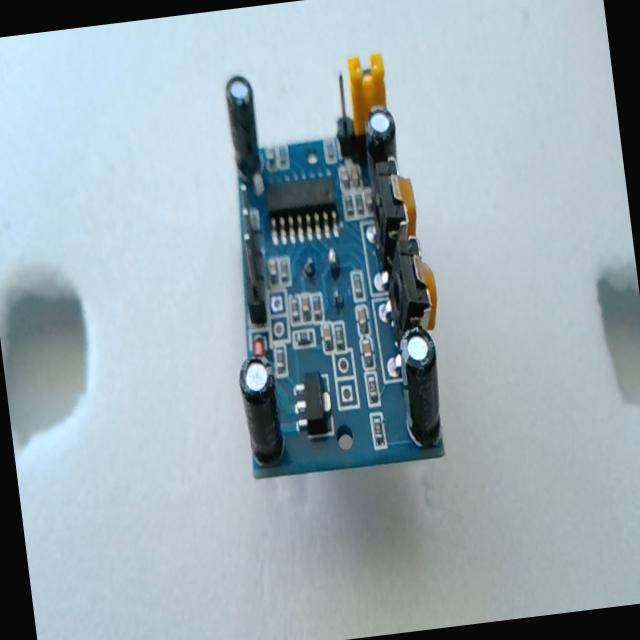Electrolytic capacitor: (388, 327, 448, 468), (232, 355, 286, 477)
IC: (256, 168, 342, 250)
